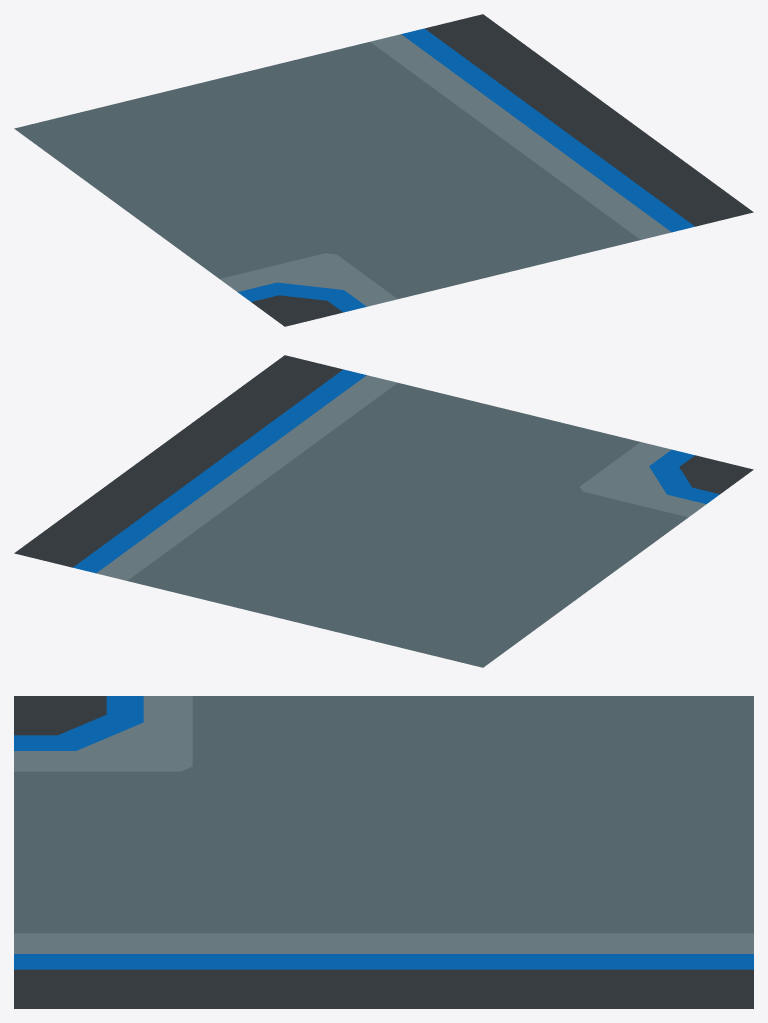
Rendered from Ceiling_type_C_026.002.fbx.
The picture shows the model from 3 angles, top to bottom: view 1: azimuth 30°, elevation 25°; view 2: azimuth 150°, elevation 25°; view 3: azimuth 270°, elevation 25°; orthographic projection. The views are drawn at different scales.
Parts seen in each view (by area): view 1: Ceiling_type_C_026.002; view 2: Ceiling_type_C_026.002; view 3: Ceiling_type_C_026.002.
Part boxes in pixels (box(x1,y1,x2,y2)): Ceiling_type_C_026.002: box(14, 14, 753, 326); Ceiling_type_C_026.002: box(14, 355, 753, 667); Ceiling_type_C_026.002: box(14, 696, 753, 1008).
Size of the model in its own units: 400 by 400 by 6.18.
